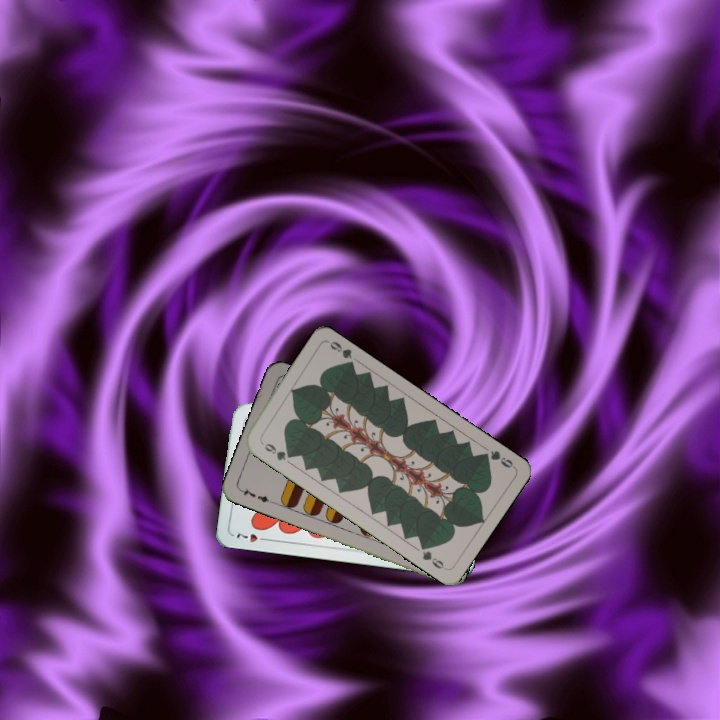E7: (236, 484, 275, 506)
G9: (477, 446, 517, 471), (260, 439, 295, 463)
H7: (232, 528, 271, 545)
